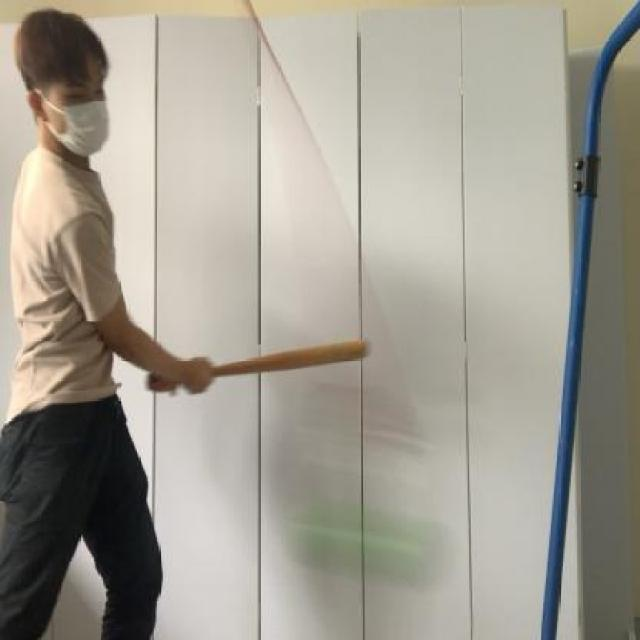baseball: (273, 482, 467, 598)
